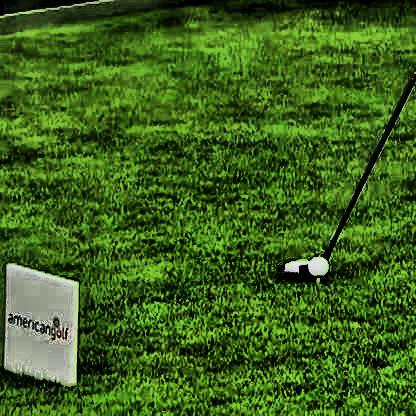golfball: (304, 252, 323, 274)
